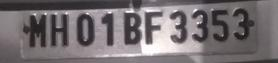0: (75, 10, 98, 48)
1: (99, 9, 117, 49)
3: (168, 9, 191, 48), (190, 5, 211, 47), (229, 5, 250, 41)
5: (209, 8, 232, 43)
B: (122, 9, 144, 46)
F: (143, 7, 165, 45)
H: (48, 9, 72, 49)
M: (25, 11, 49, 51)
